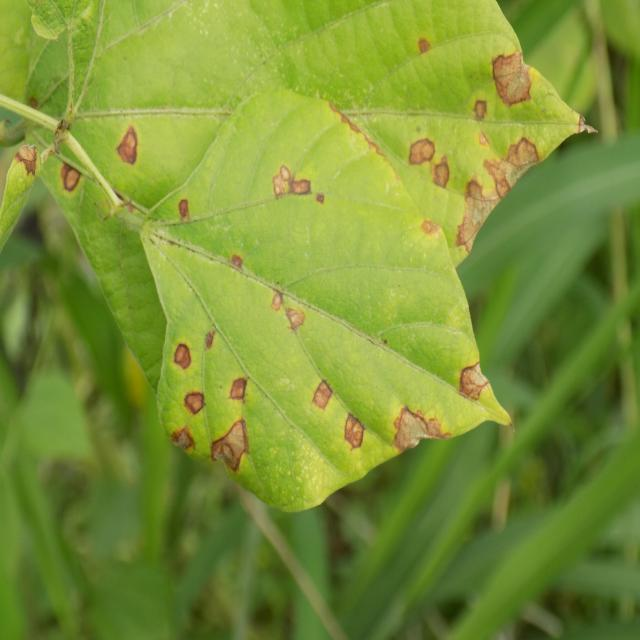Dolicos bean_cercospora leaf spot: (31, 0, 584, 494), (129, 84, 515, 516)
